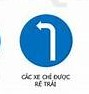Turn_left: (19, 13, 74, 68)
